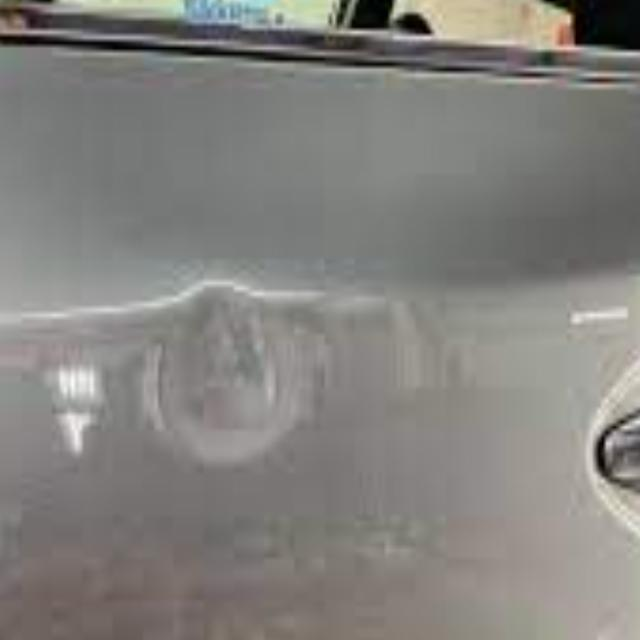dents: (135, 255, 314, 502)
